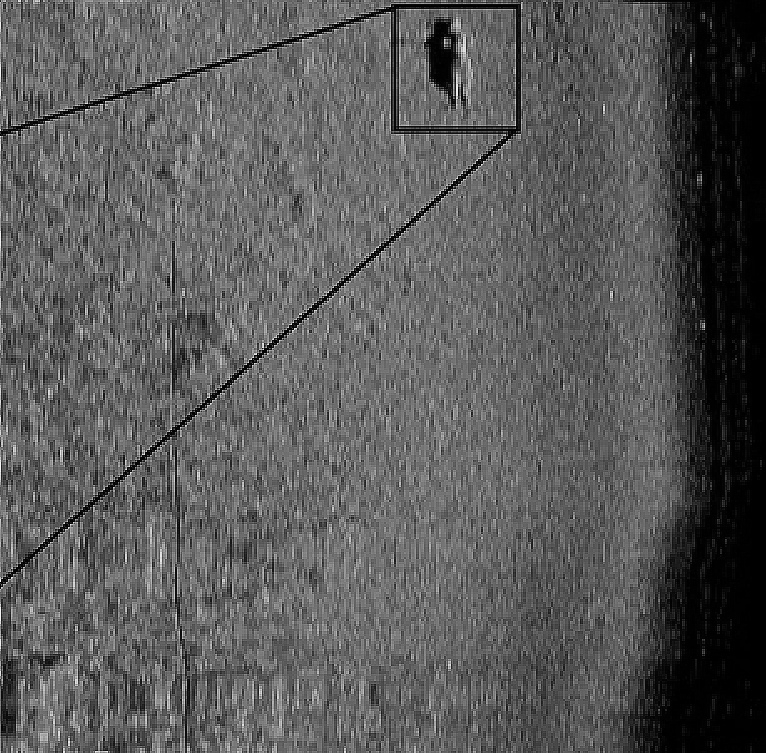man: (437, 15, 479, 118)
